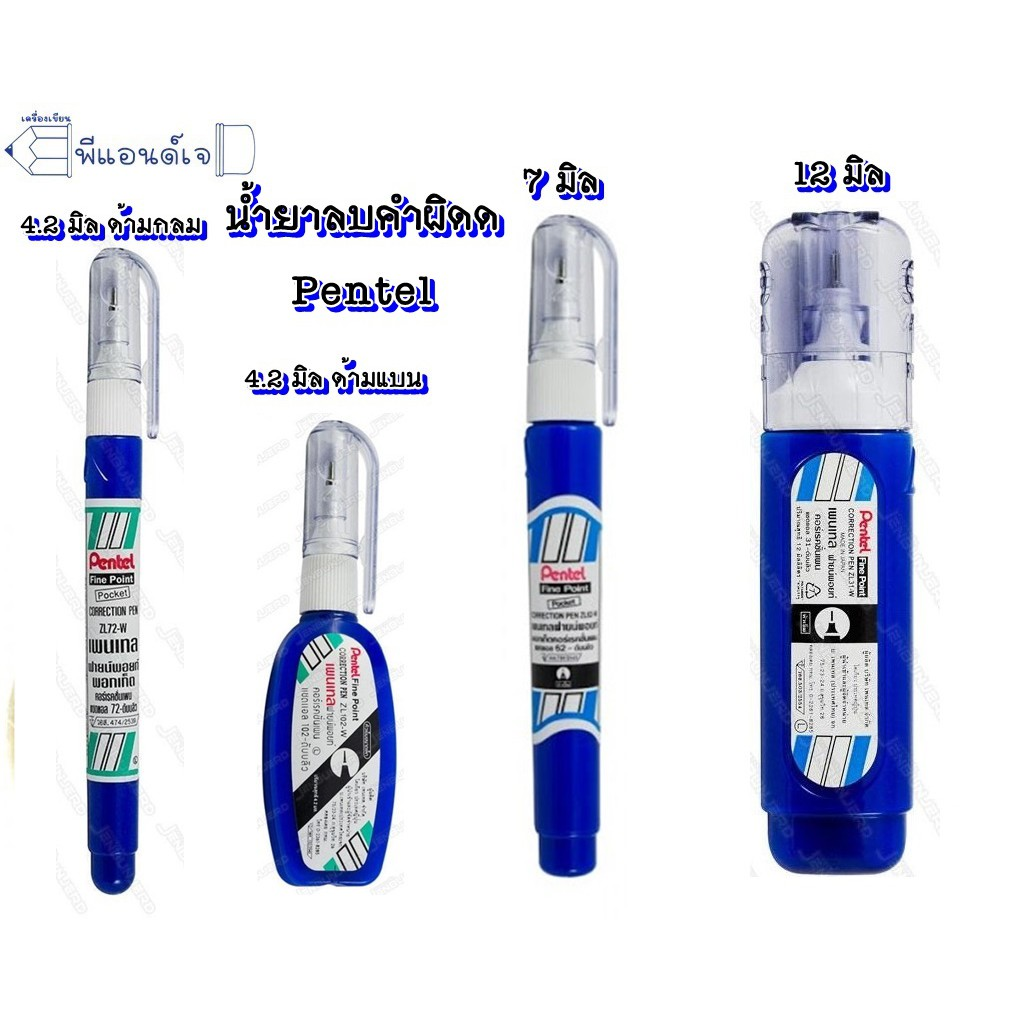Correction_fluid: (752, 200, 919, 879), (515, 211, 627, 884), (255, 411, 408, 894), (77, 241, 166, 903)
